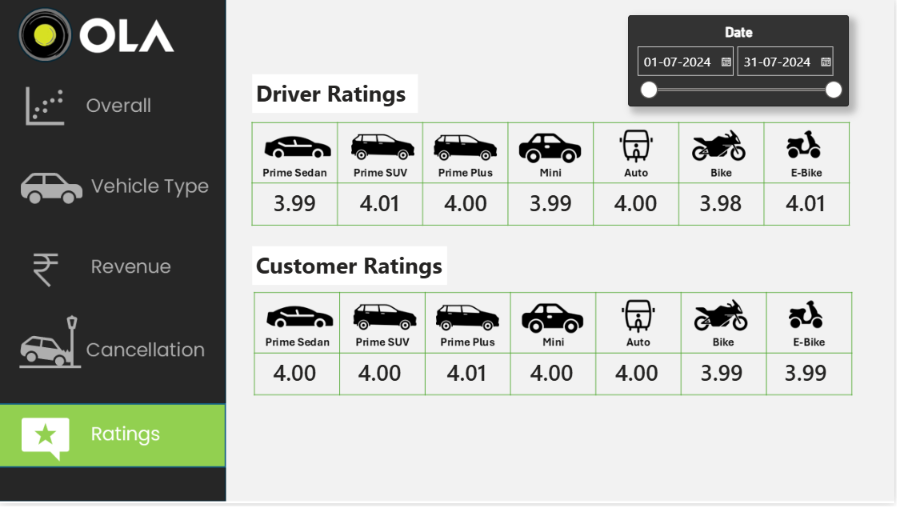

This screenshot's page, from the dashboard's own definition file:
{"tool":"powerbi","page":{"name":"Ratings","canvas":[1280,720],"ordinal":4},"visuals":[{"type":"actionButton","box":[0,107.4,324.5,91.7],"z":0},{"type":"actionButton","box":[0,219.6,324.5,91.7],"z":1000},{"type":"actionButton","box":[0,336.6,324.5,91.7],"z":2000},{"type":"actionButton","box":[0,448.8,324.5,91.7],"z":3000},{"type":"cardVisual","fields":{"Data":["Avg(July.Driver_Ratings)"]},"box":[361.7,253.3,121.7,70],"z":3001},{"type":"cardVisual","fields":{"Data":["Avg(July.Driver_Ratings)"]},"box":[483.3,253.3,121.7,70],"z":3002},{"type":"cardVisual","fields":{"Data":["Avg(July.Driver_Ratings)"]},"box":[605,253.3,121.7,70],"z":3003},{"type":"cardVisual","fields":{"Data":["Avg(July.Driver_Ratings)"]},"box":[726.7,253.3,121.7,70],"z":3004},{"type":"cardVisual","fields":{"Data":["Avg(July.Driver_Ratings)"]},"box":[848.3,253.3,121.7,70],"z":3005},{"type":"cardVisual","fields":{"Data":["Avg(July.Driver_Ratings)"]},"box":[970,253.3,121.7,70],"z":3006},{"type":"cardVisual","fields":{"Data":["Avg(July.Driver_Ratings)"]},"box":[1091.7,253.3,121.7,70],"z":3007},{"type":"cardVisual","fields":{"Data":["Avg(July.Customer_Rating)"]},"box":[361.7,495,121.7,70],"z":3008},{"type":"cardVisual","fields":{"Data":["Avg(July.Customer_Rating)"]},"box":[483.3,495,121.7,70],"z":3009},{"type":"cardVisual","fields":{"Data":["Avg(July.Customer_Rating)"]},"box":[606.7,495,121.7,70],"z":3010},{"type":"cardVisual","fields":{"Data":["Avg(July.Customer_Rating)"]},"box":[728.3,495,121.7,70],"z":3011},{"type":"cardVisual","fields":{"Data":["Avg(July.Customer_Rating)"]},"box":[850,495,121.7,70],"z":3012},{"type":"cardVisual","fields":{"Data":["Avg(July.Customer_Rating)"]},"box":[971.7,495,121.7,70],"z":3013},{"type":"cardVisual","fields":{"Data":["Avg(July.Customer_Rating)"]},"box":[1091.7,495,121.7,70],"z":3014},{"type":"textbox","box":[361.7,106.7,236.7,55],"z":3015},{"type":"textbox","box":[361.7,353.3,278.3,55],"z":3016},{"type":"slicer","title":"Date","fields":{"Values":["July.Date"]},"box":[898.3,23.3,315,130],"z":3017}]}

Visuals, with their boxes on the page's 1280x720 design canvas (x1, y1, x2, y2). These are canvas units, not pixel positions in the 897x507 screenshot, which may show the page scaled, cropped or inside an application window:
actionButton: <region>0, 107, 324, 199</region>
actionButton: <region>0, 220, 324, 311</region>
actionButton: <region>0, 337, 324, 428</region>
actionButton: <region>0, 449, 324, 540</region>
cardVisual - Avg(July.Driver_Ratings): <region>362, 253, 483, 323</region>
cardVisual - Avg(July.Driver_Ratings): <region>483, 253, 605, 323</region>
cardVisual - Avg(July.Driver_Ratings): <region>605, 253, 727, 323</region>
cardVisual - Avg(July.Driver_Ratings): <region>727, 253, 848, 323</region>
cardVisual - Avg(July.Driver_Ratings): <region>848, 253, 970, 323</region>
cardVisual - Avg(July.Driver_Ratings): <region>970, 253, 1092, 323</region>
cardVisual - Avg(July.Driver_Ratings): <region>1092, 253, 1213, 323</region>
cardVisual - Avg(July.Customer_Rating): <region>362, 495, 483, 565</region>
cardVisual - Avg(July.Customer_Rating): <region>483, 495, 605, 565</region>
cardVisual - Avg(July.Customer_Rating): <region>607, 495, 728, 565</region>
cardVisual - Avg(July.Customer_Rating): <region>728, 495, 850, 565</region>
cardVisual - Avg(July.Customer_Rating): <region>850, 495, 972, 565</region>
cardVisual - Avg(July.Customer_Rating): <region>972, 495, 1093, 565</region>
cardVisual - Avg(July.Customer_Rating): <region>1092, 495, 1213, 565</region>
textbox: <region>362, 107, 598, 162</region>
textbox: <region>362, 353, 640, 408</region>
"Date" slicer: <region>898, 23, 1213, 153</region>
